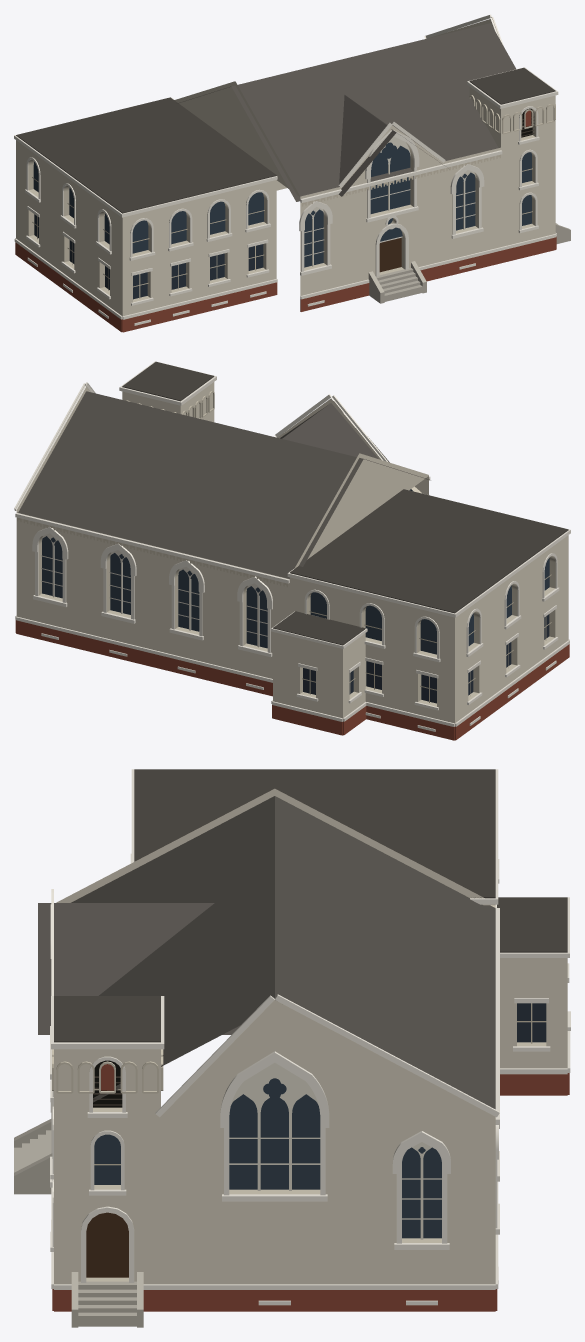
The model's file is ch-asbury-methodist-1961.glb.
3 renders of one model, top to bottom at view 1: azimuth 30°, elevation 25°; view 2: azimuth 150°, elevation 25°; view 3: azimuth 270°, elevation 25°, orthographic. The views are drawn at different scales.
Parts seen in each view (by area): view 1: ch_brick, ch_roof, ch_roof2, ch_trim, ch_stain, ch_base, ch_brick2, ch_conc, ch_glass, ch_trc, ch_door, ch_lead; view 2: ch_brick, ch_roof, ch_roof2, ch_trim, ch_base, ch_stain, ch_brick2, ch_glass, ch_trc; view 3: ch_brick, ch_roof, ch_roof2, ch_trim, ch_stain, ch_base, ch_conc, ch_trc, ch_brick2, ch_door, ch_glass.
Boxes of the visible parts, x1,y1,x2,y2 form: ch_brick: (16,19,555,316); ch_roof: (177,23,515,201); ch_roof2: (16,67,555,213); ch_trim: (14,14,558,325); ch_stain: (33,142,531,267); ch_base: (15,110,556,332); ch_brick2: (28,95,555,302); ch_conc: (368,223,570,303); ch_glass: (34,214,263,299); ch_trc: (304,136,476,266); ch_door: (379,237,401,272); ch_lead: (32,124,533,298); ch_brick: (16,382,568,723); ch_roof: (18,391,430,578); ch_roof2: (122,361,568,645); ch_trim: (14,361,570,731); ch_base: (15,619,569,740); ch_stain: (42,489,549,654); ch_brick2: (17,391,555,706); ch_glass: (303,614,549,703); ch_trc: (41,533,267,647); ch_brick: (54,788,567,1284); ch_roof: (38,796,495,1109); ch_roof2: (54,769,567,1042); ch_trim: (50,769,570,1305); ch_stain: (94,1078,441,1238); ch_base: (52,1064,569,1311); ch_conc: (14,1119,143,1327); ch_trc: (229,1062,441,1239); ch_brick2: (52,905,546,1281); ch_door: (86,1212,128,1277); ch_glass: (517,1003,546,1042).
Bounding box in the file's own units: 31.64 × 13.06 × 20.82.
